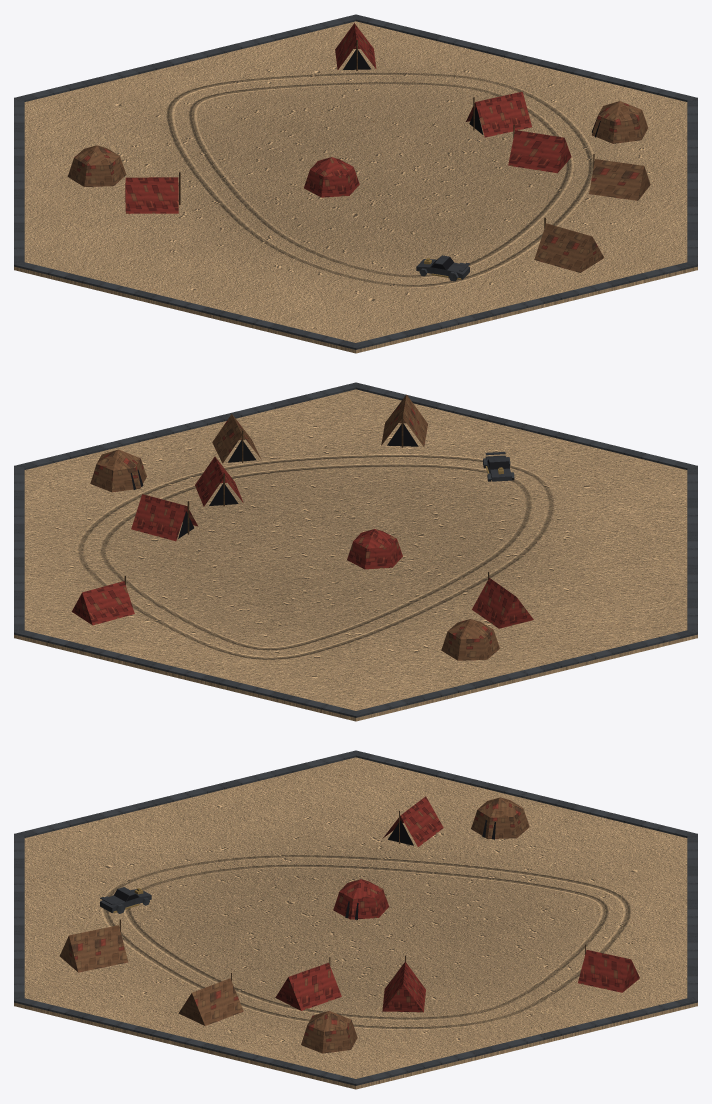
File: WasteCamp.glb
3 renders of one model, top to bottom at view 1: azimuth 30°, elevation 25°; view 2: azimuth 150°, elevation 25°; view 3: azimuth 270°, elevation 25°, orthographic.
Visible parts, largest first — view 1: WasteCamp_Ground, WasteCamp_GroundTrim, WasteCamp_CanvasRed, WasteCamp_Canvas, WasteCamp_Car, WasteCamp_TentDark; view 2: WasteCamp_Ground, WasteCamp_GroundTrim, WasteCamp_CanvasRed, WasteCamp_Canvas, WasteCamp_TentDark, WasteCamp_Car; view 3: WasteCamp_Ground, WasteCamp_GroundTrim, WasteCamp_CanvasRed, WasteCamp_Canvas, WasteCamp_Car.
Boxes of the visible parts, box(x1,y1,x2,y2) form: WasteCamp_Ground: box(14, 21, 697, 353); WasteCamp_GroundTrim: box(14, 14, 697, 349); WasteCamp_CanvasRed: box(125, 23, 571, 213); WasteCamp_Canvas: box(67, 101, 650, 272); WasteCamp_Car: box(416, 255, 469, 281); WasteCamp_TentDark: box(120, 49, 600, 176); WasteCamp_Ground: box(14, 389, 697, 721); WasteCamp_GroundTrim: box(14, 382, 697, 717); WasteCamp_CanvasRed: box(71, 456, 533, 628); WasteCamp_Canvas: box(90, 394, 499, 660); WasteCamp_TentDark: box(131, 423, 418, 538); WasteCamp_Car: box(483, 452, 514, 481); WasteCamp_Ground: box(14, 757, 697, 1089); WasteCamp_GroundTrim: box(14, 750, 697, 1085); WasteCamp_CanvasRed: box(275, 796, 639, 1012); WasteCamp_Canvas: box(60, 797, 529, 1053); WasteCamp_Car: box(100, 887, 151, 913).
Size of the model in its own units: 12 by 0.6308 by 10.39.
Materials: 9 (9 with a texture image).
